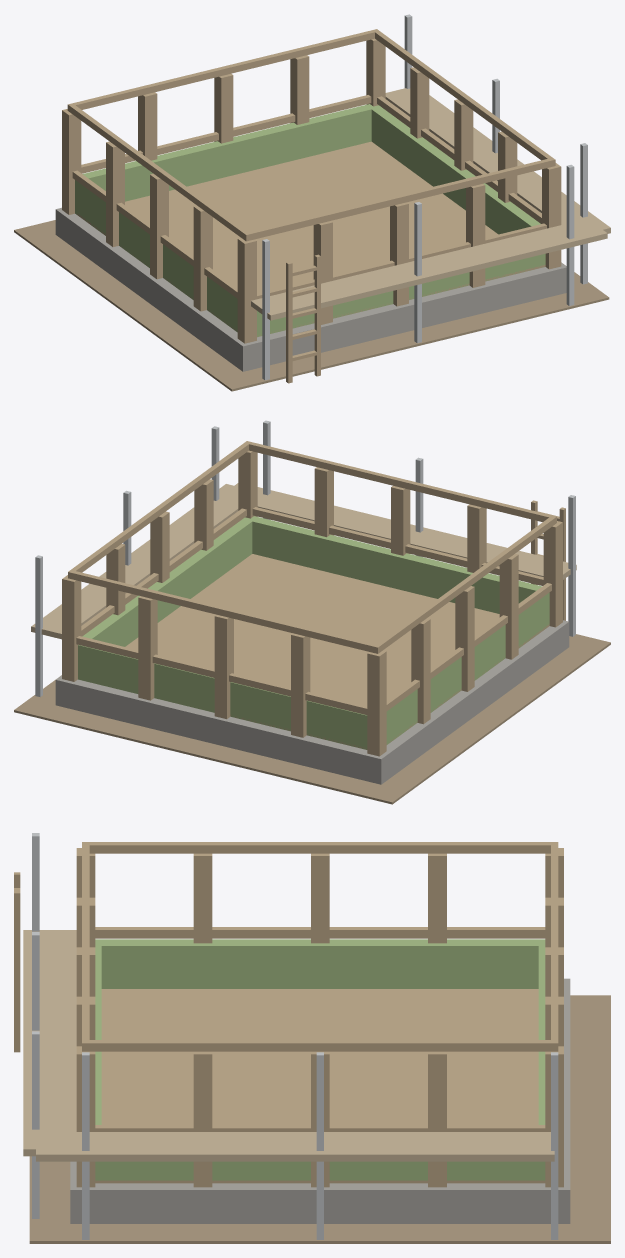
Rendered from orchard_site_5.glb.
3 renders of one model, top to bottom at view 1: azimuth 30°, elevation 25°; view 2: azimuth 150°, elevation 25°; view 3: azimuth 270°, elevation 25°, orthographic. The views are drawn at different scales.
Parts seen in each view (by area): view 1: body; view 2: body; view 3: body.
Part boxes in pixels (box(x1,y1,x2,y2)): body: box(14, 14, 610, 391); body: box(14, 420, 610, 804); body: box(14, 833, 610, 1243).
Size of the model in its own units: 1.88 by 0.6617 by 1.91.
